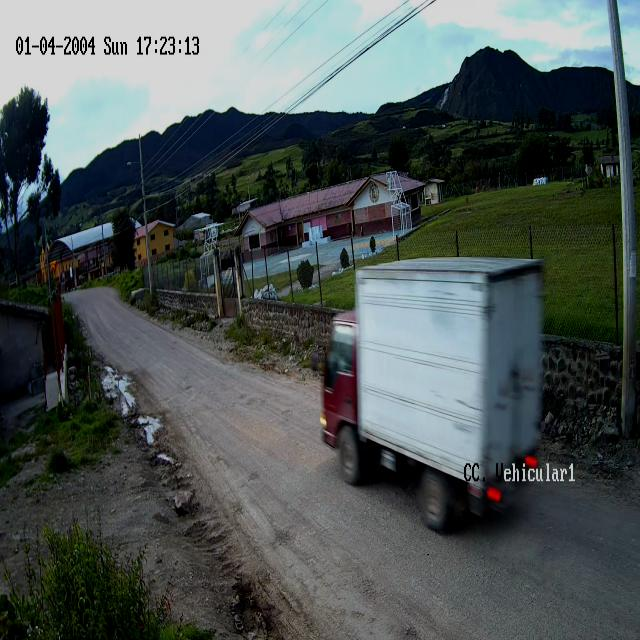TRUCK: (323, 258, 546, 534)
